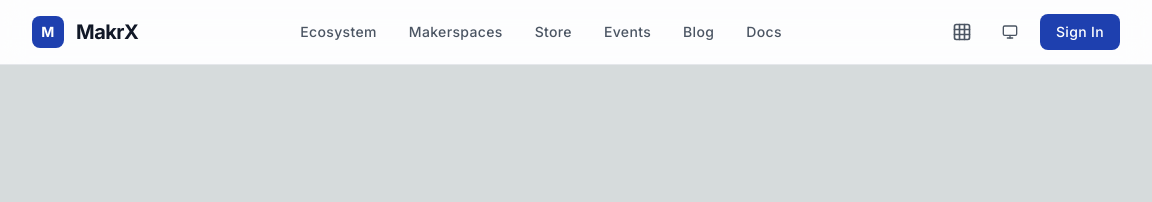
AuthFlow › handles login/logout correctly
Simulate login
Click the button "Sign In": (1080, 32) 1040,14 -> 1120,50
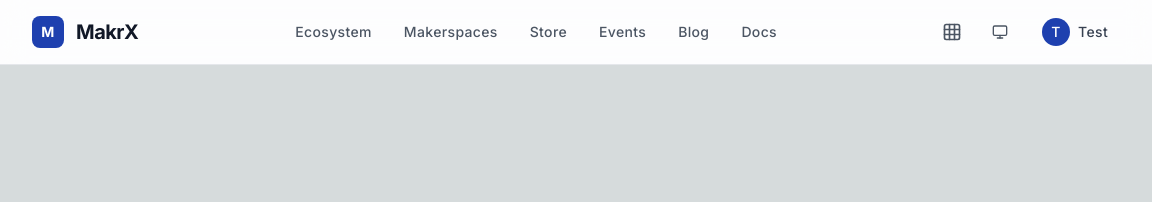
expect the text "Test" is shown: met
Click the text "Test": (1093, 32) 1078,22 -> 1108,42
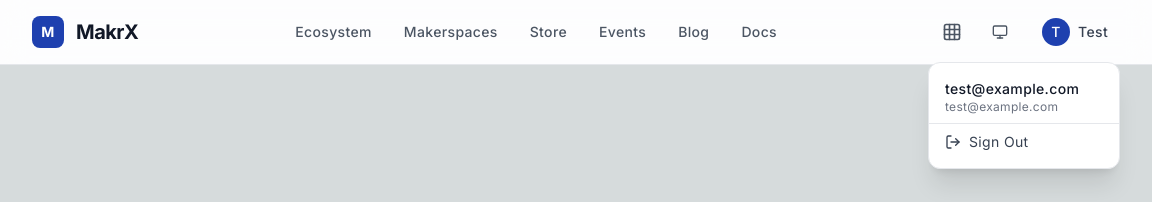
Click the button "Sign Out": (1024, 142) 929,124 -> 1119,160
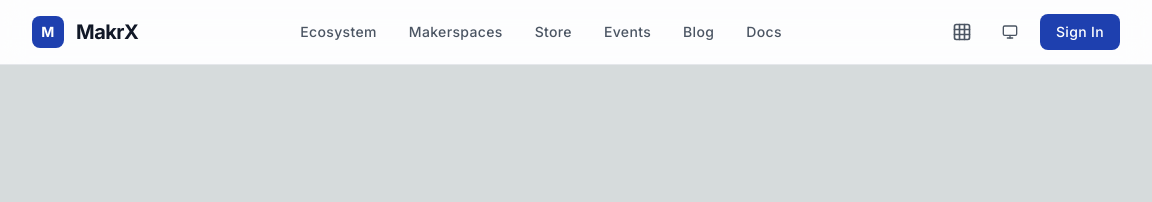
expect the button "Sign In" is shown: met, box 1040,14 -> 1120,50
